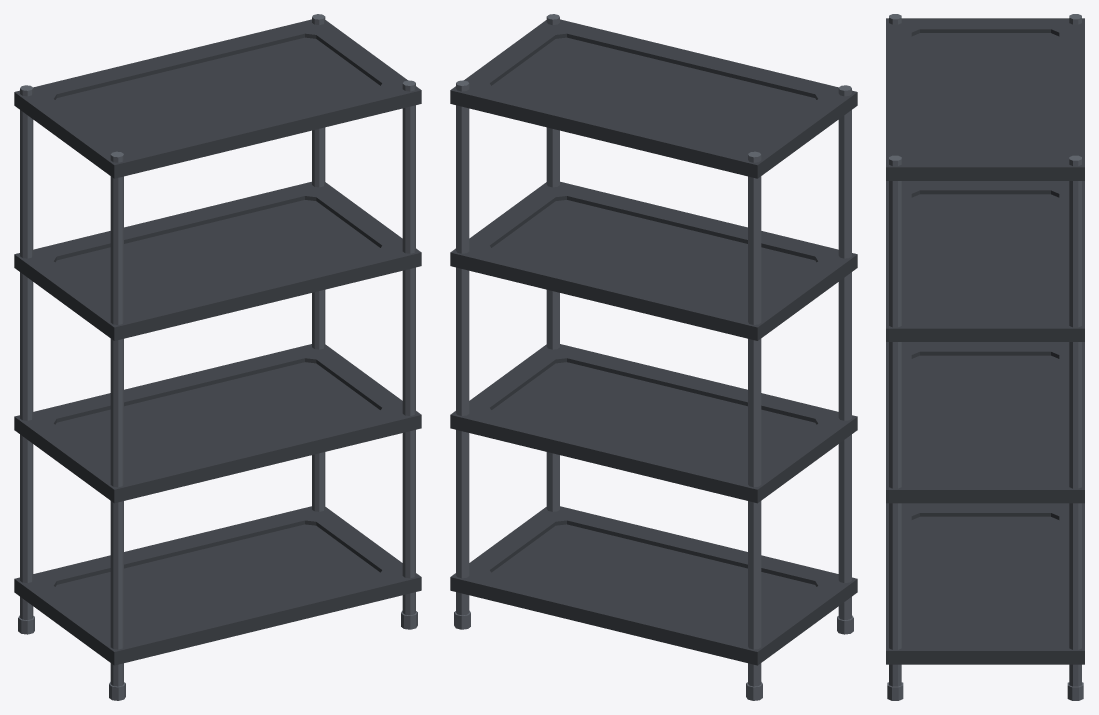
File: SM_Props_Rack_02.fbx
The picture shows the model from 3 angles, left to right: view 1: azimuth 30°, elevation 25°; view 2: azimuth 150°, elevation 25°; view 3: azimuth 270°, elevation 25°; orthographic projection.
Visible parts, largest first — view 1: SM_Props_Rack_02; view 2: SM_Props_Rack_02; view 3: SM_Props_Rack_02.
Boxes of the visible parts, left/top/right/bottom form: SM_Props_Rack_02: left=14, top=14, right=421, bottom=700; SM_Props_Rack_02: left=450, top=14, right=857, bottom=700; SM_Props_Rack_02: left=886, top=14, right=1084, bottom=700.
Size of the model in its own units: 1.48 by 2.5 by 0.8356.
